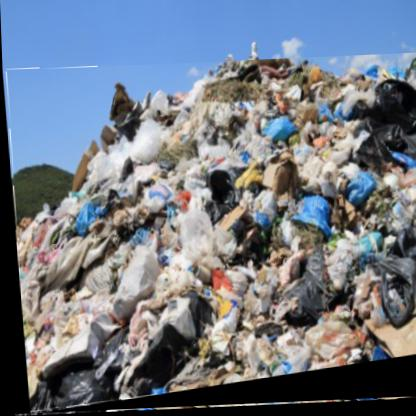Garbage: (3, 57, 416, 416)
